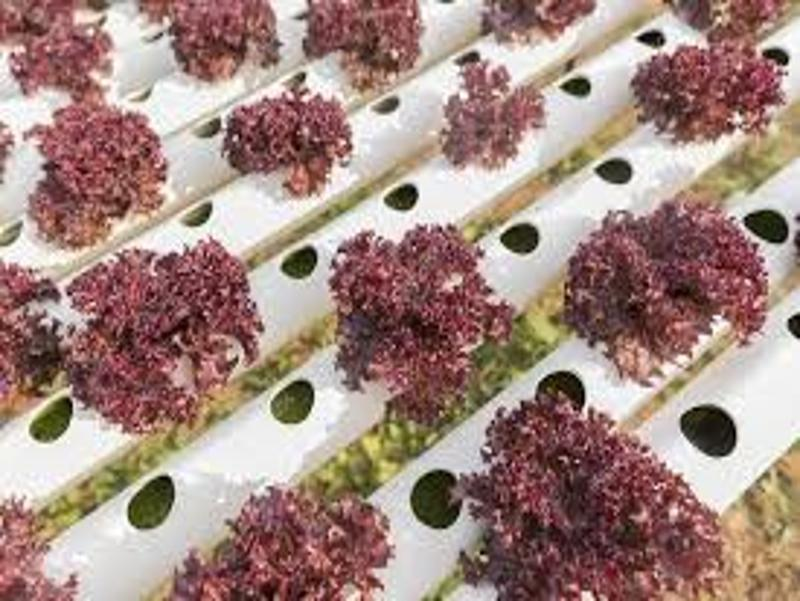red lettuce: (465, 391, 738, 601), (335, 219, 523, 431), (71, 239, 265, 431), (574, 194, 766, 375), (172, 486, 393, 601), (30, 98, 176, 239), (628, 41, 781, 139), (221, 92, 364, 190), (436, 53, 539, 166), (140, 3, 284, 79), (307, 2, 419, 87), (15, 16, 124, 93)
